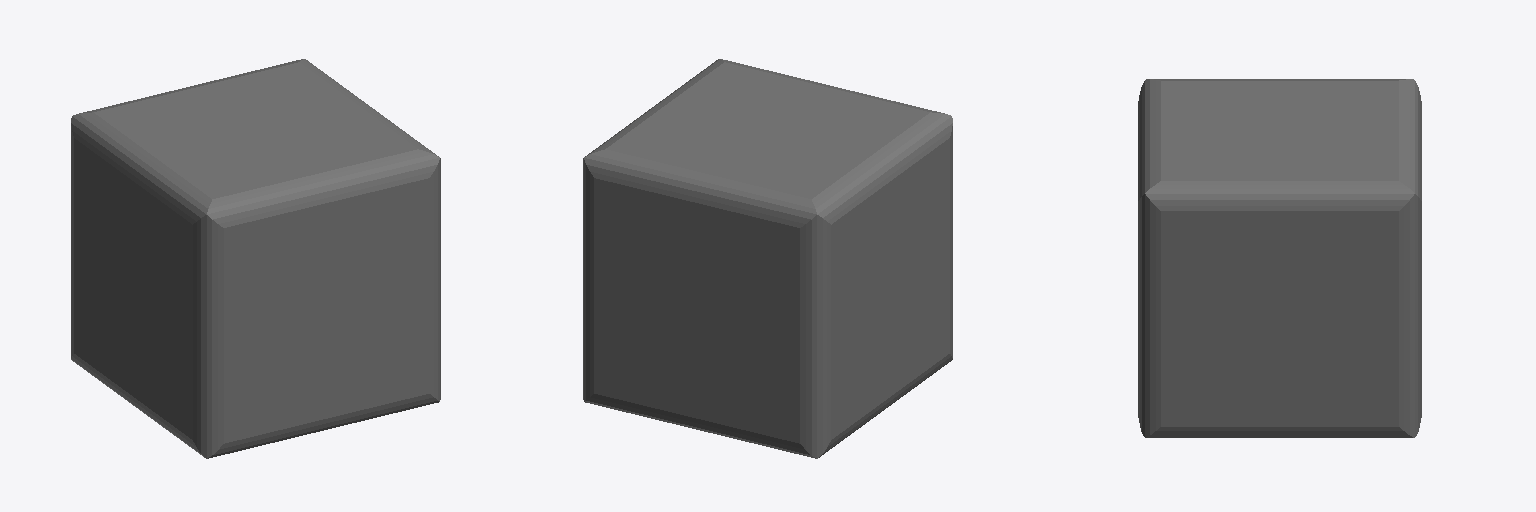
Rendered from roundbox1.obj.
3 renders of one model, left to right at view 1: azimuth 30°, elevation 25°; view 2: azimuth 150°, elevation 25°; view 3: azimuth 270°, elevation 25°, orthographic.
Parts seen in each view (by area): view 1: box1:pCube1; view 2: box1:pCube1; view 3: box1:pCube1.
Boxes of the visible parts, x1=… form: box1:pCube1: x1=71, y1=59, x2=440, y2=458; box1:pCube1: x1=583, y1=59, x2=952, y2=458; box1:pCube1: x1=1138, y1=79, x2=1421, y2=437.
Bounding box in the file's own units: 0.9943 × 0.9703 × 0.9943.